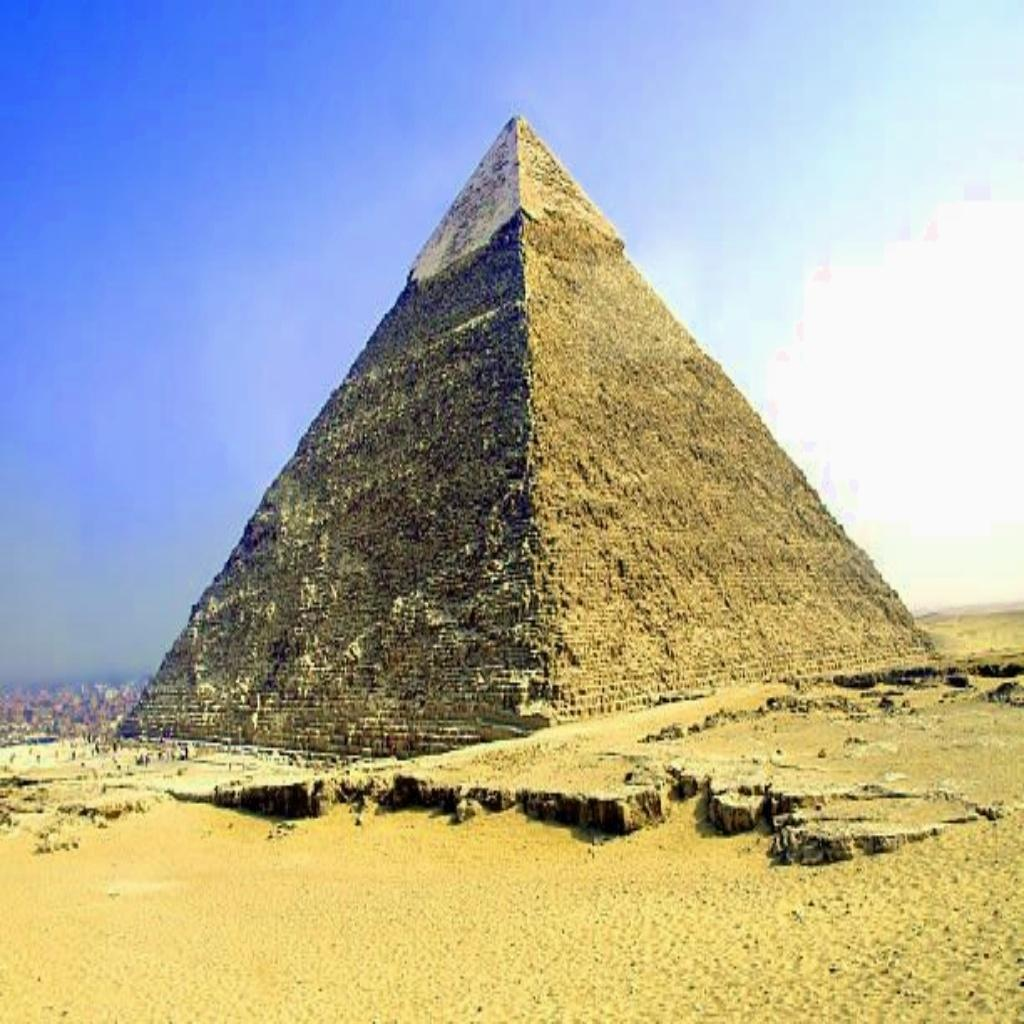Great Pyramids of Giza: (116, 108, 938, 763)
